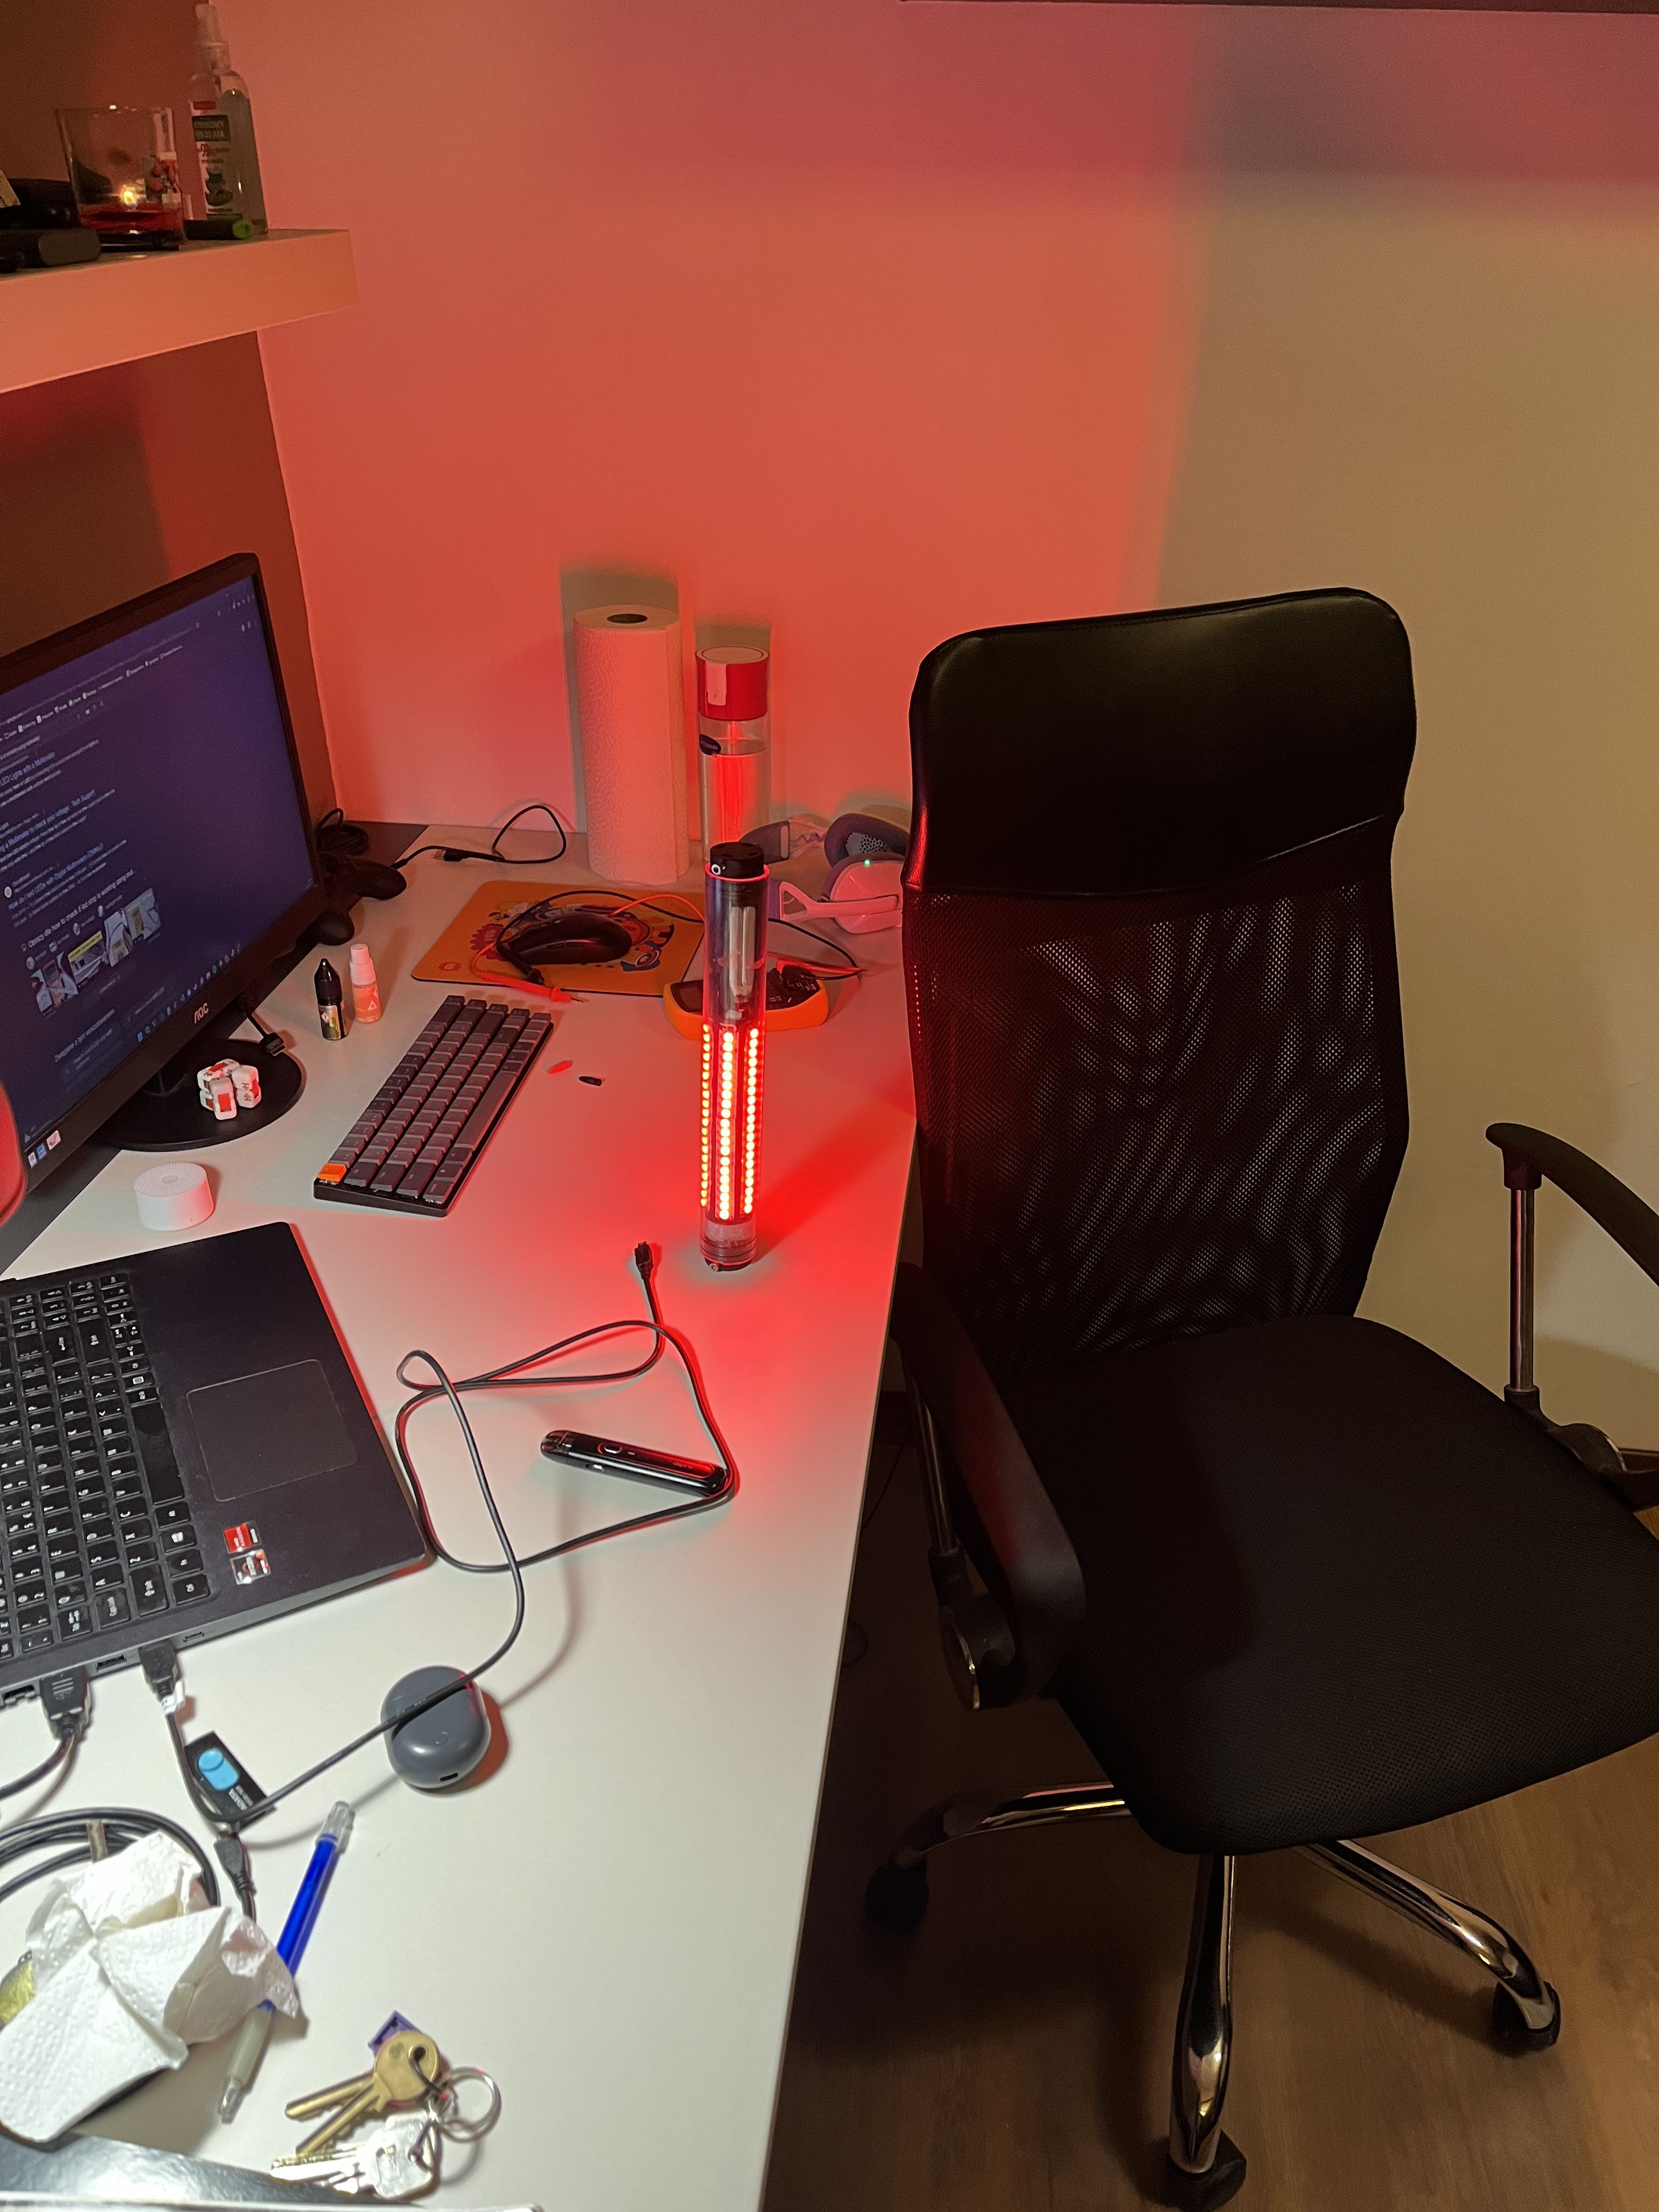red: (695, 878, 765, 1261)
